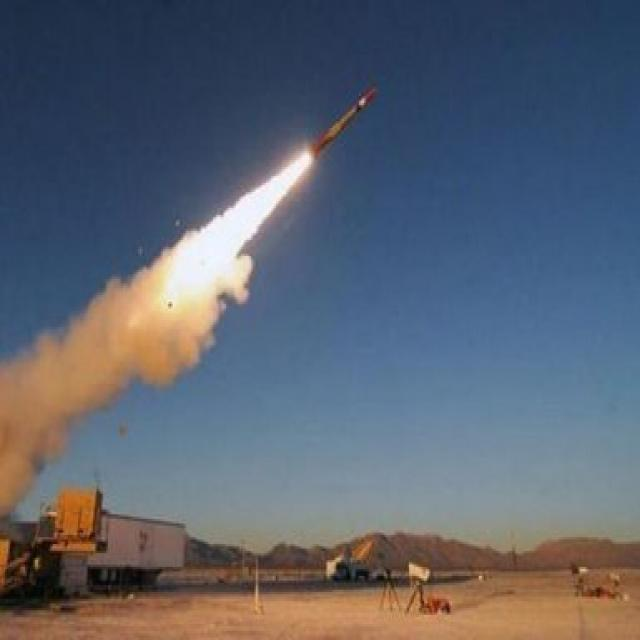missile: (301, 69, 384, 176)
